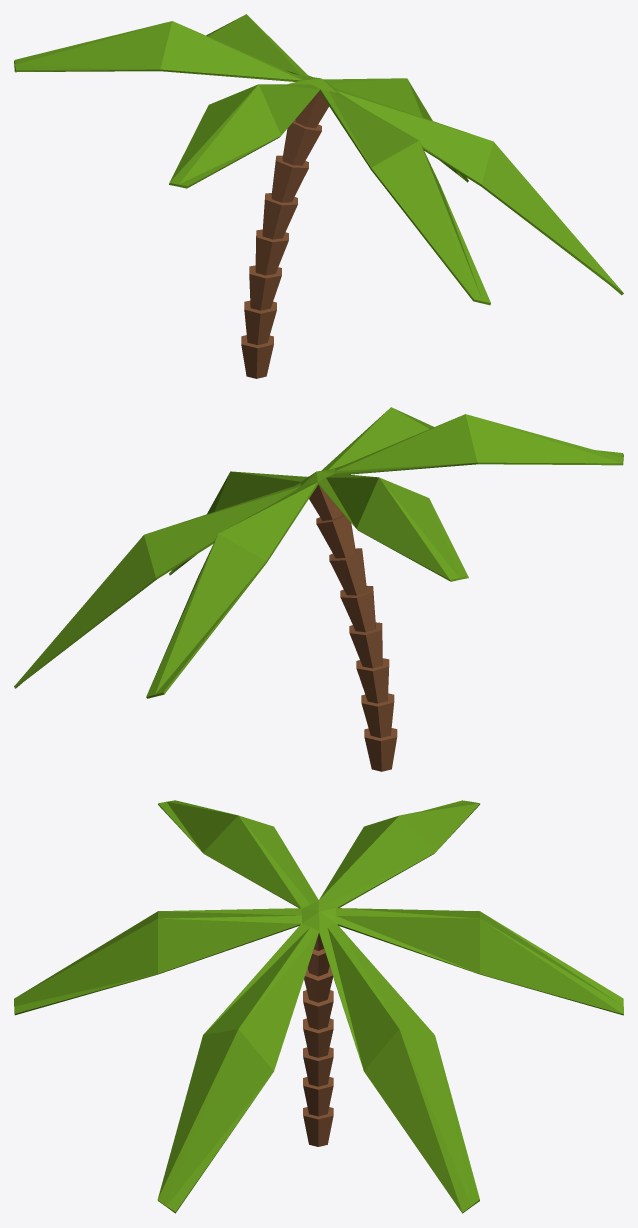
Rendered from tree_3.FBX.
3 renders of one model, top to bottom at view 1: azimuth 30°, elevation 25°; view 2: azimuth 150°, elevation 25°; view 3: azimuth 270°, elevation 25°, orthographic. The views are drawn at different scales.
Visible parts, largest first — view 1: Tree3; view 2: Tree3; view 3: Tree3.
Part boxes in pixels (x1,y1,x2,y2): Tree3: [14, 14, 623, 378]; Tree3: [14, 407, 623, 771]; Tree3: [14, 800, 623, 1213].
Bounding box in the file's own units: 172 × 120 × 215.
